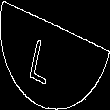L_N: (40, 26, 70, 84)
